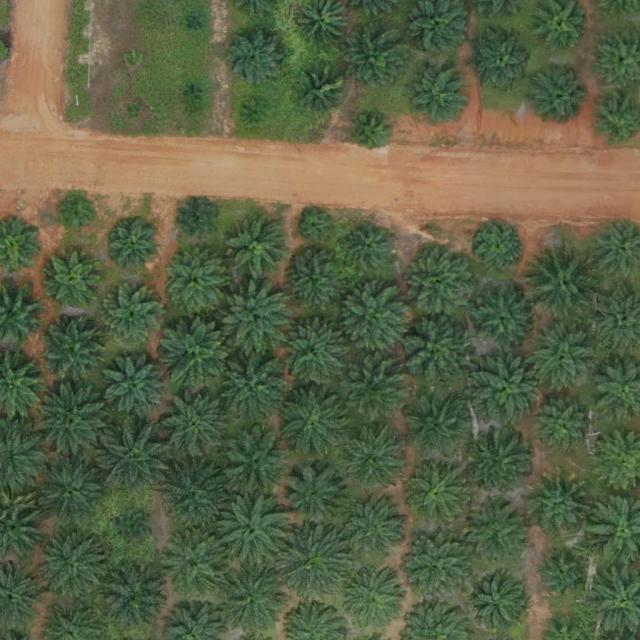Healthy: (31, 384, 109, 463), (96, 421, 174, 500), (159, 315, 237, 394), (157, 458, 235, 537), (211, 346, 289, 425), (218, 490, 296, 569), (277, 384, 355, 463), (274, 525, 352, 604), (402, 242, 480, 321), (394, 312, 472, 391), (398, 529, 476, 608), (469, 352, 547, 431), (526, 243, 604, 322), (524, 320, 602, 399), (215, 561, 293, 640), (274, 317, 352, 395), (39, 315, 110, 386), (334, 564, 405, 635), (101, 562, 172, 633), (34, 457, 105, 527), (37, 530, 108, 600), (162, 530, 232, 601), (220, 428, 291, 498), (220, 24, 290, 94), (102, 353, 172, 423), (159, 389, 229, 459), (220, 283, 290, 353), (280, 463, 350, 533), (338, 285, 408, 355), (339, 355, 409, 425), (342, 497, 412, 567), (345, 29, 408, 92), (407, 64, 470, 127), (99, 286, 162, 349), (164, 249, 227, 312), (282, 251, 345, 314), (407, 460, 470, 523), (474, 432, 537, 495), (464, 571, 527, 634), (227, 217, 289, 280), (407, 397, 469, 460), (473, 287, 535, 350), (467, 498, 529, 561), (531, 474, 593, 537), (474, 32, 536, 94), (531, 64, 593, 126), (46, 252, 101, 307), (108, 220, 163, 275), (346, 432, 401, 487), (537, 401, 591, 456), (302, 69, 349, 116), (347, 225, 394, 272), (477, 223, 524, 270), (538, 553, 585, 600)
Small: (351, 115, 390, 154), (59, 197, 98, 236), (115, 512, 154, 551), (178, 201, 217, 240), (300, 212, 331, 243), (245, 100, 269, 124), (189, 15, 205, 31), (127, 104, 142, 120), (185, 84, 200, 100), (125, 52, 140, 67)
